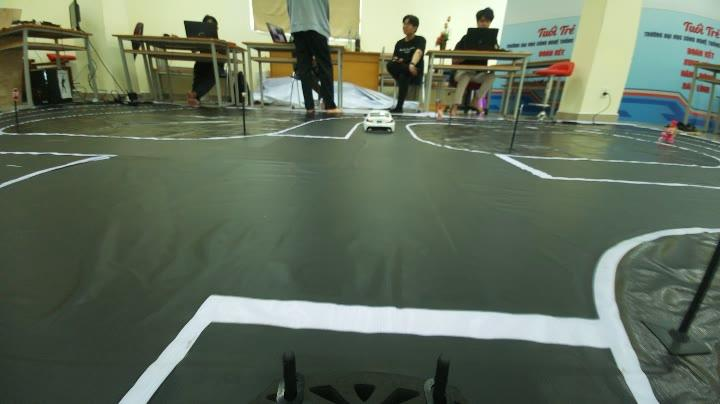car: (359, 102, 398, 133)
